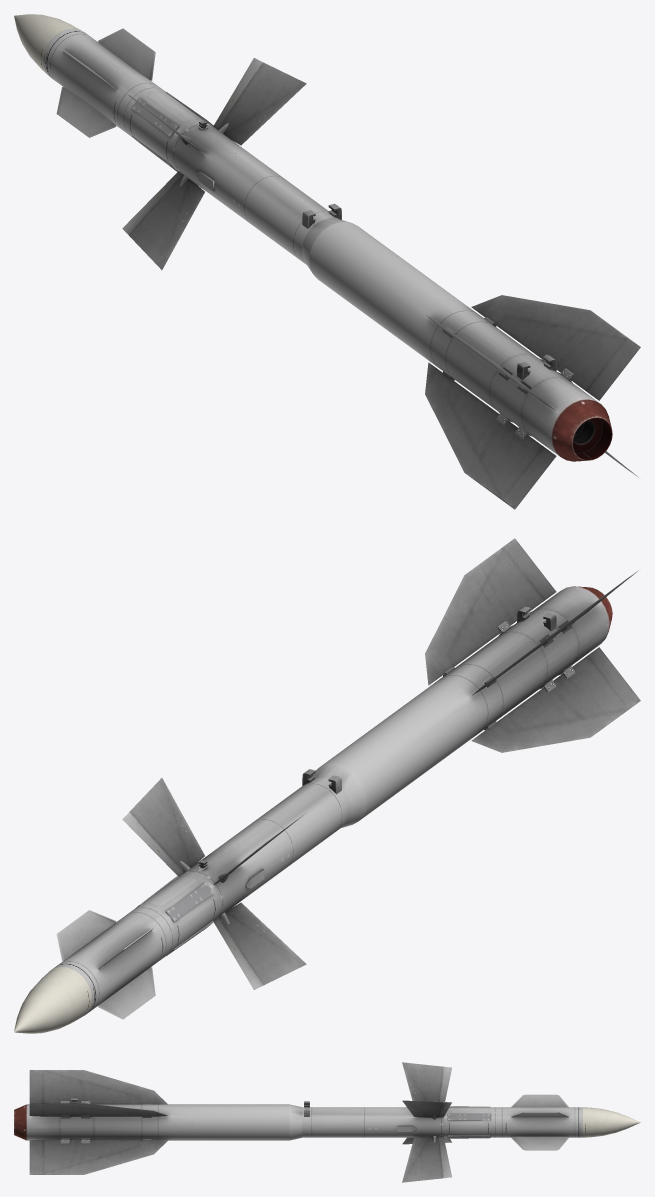
The model's file is aam_r27.glb.
The picture shows the model from 3 angles, top to bottom: view 1: azimuth 30°, elevation 25°; view 2: azimuth 150°, elevation 25°; view 3: azimuth 270°, elevation 25°; orthographic projection. The views are drawn at different scales.
Visible parts, largest first — view 1: body|w_saam_r0-Mat; view 2: body|w_saam_r0-Mat; view 3: body|w_saam_r0-Mat.
Part boxes in pixels (box(x1,y1,x2,y2)): body|w_saam_r0-Mat: box(14, 14, 640, 509); body|w_saam_r0-Mat: box(14, 538, 640, 1033); body|w_saam_r0-Mat: box(14, 1062, 640, 1182).
Size of the model in its own units: 0.6103 by 0.6103 by 4.22.
Materials: 1 (1 with a texture image).
